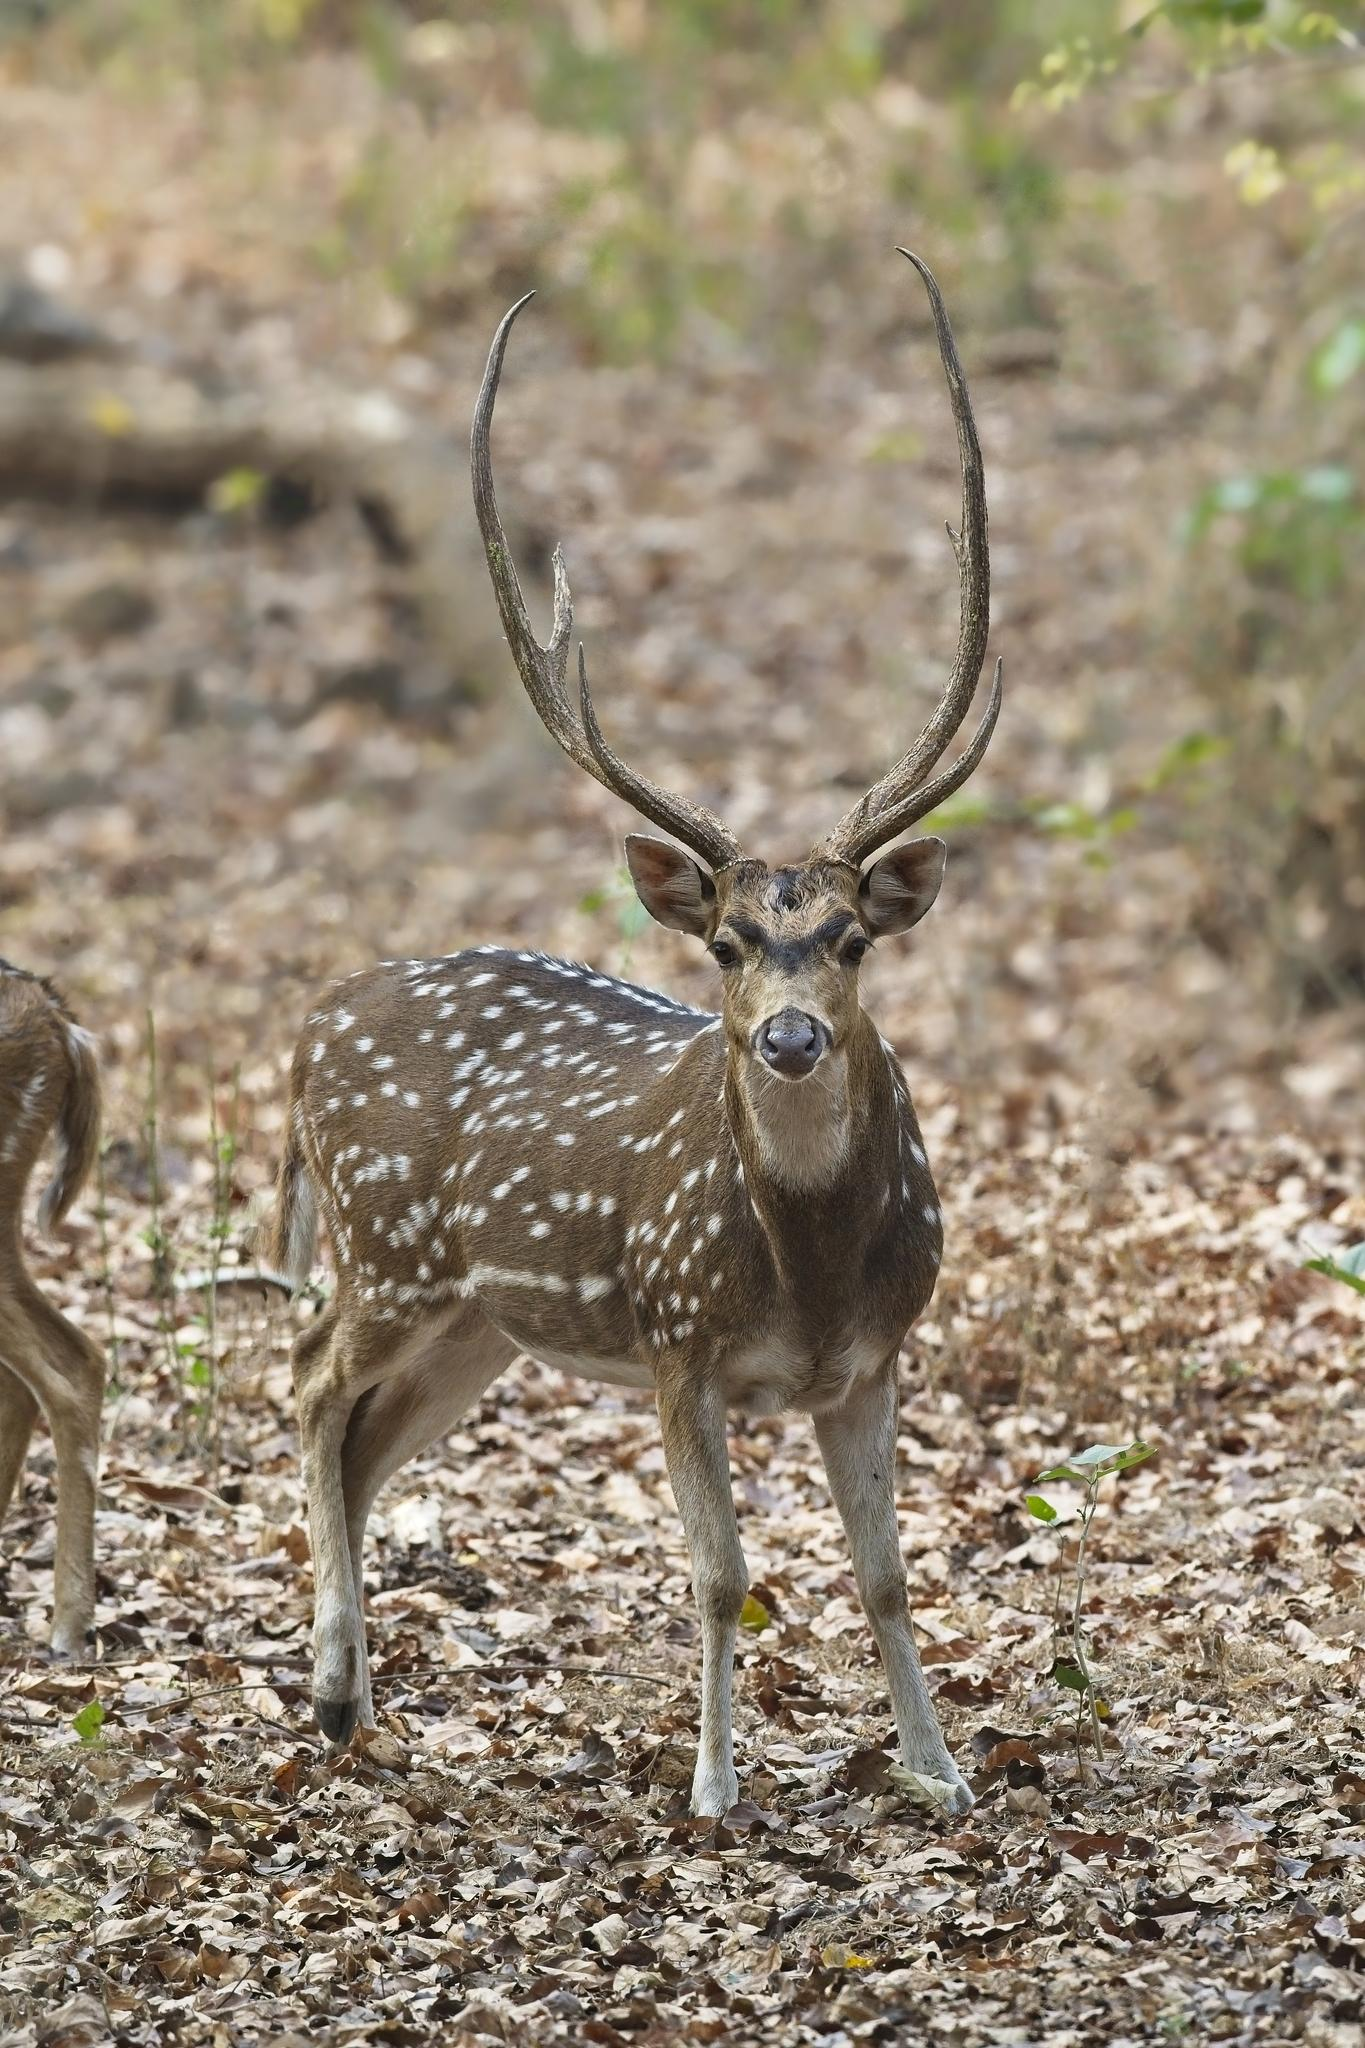Deer: (267, 250, 1001, 1818)
